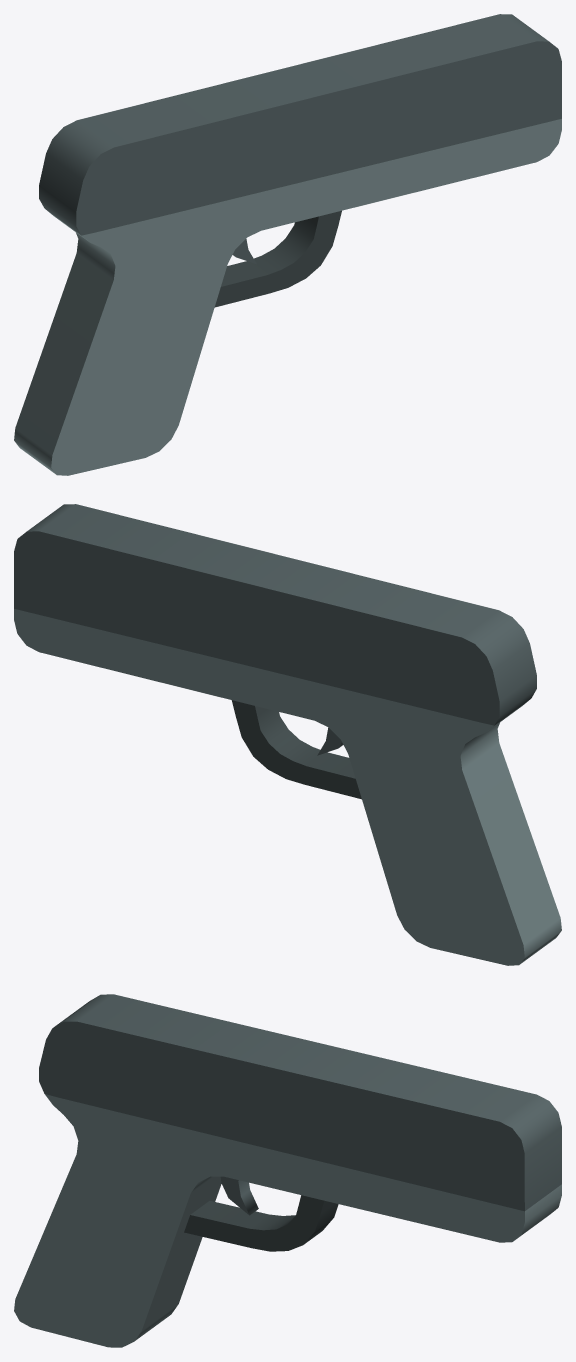
The model's file is Gun.fbx.
The picture shows the model from 3 angles, top to bottom: view 1: azimuth 30°, elevation 25°; view 2: azimuth 150°, elevation 25°; view 3: azimuth 330°, elevation 25°; orthographic projection.
Parts seen in each view (by area): view 1: Gun; view 2: Gun; view 3: Gun.
Boxes of the visible parts, x1=… form: Gun: x1=14, y1=14, x2=561, y2=475; Gun: x1=14, y1=504, x2=561, y2=965; Gun: x1=14, y1=994, x2=561, y2=1347.
Bounding box in the file's own units: 0.5922 × 0.3557 × 0.0746.
